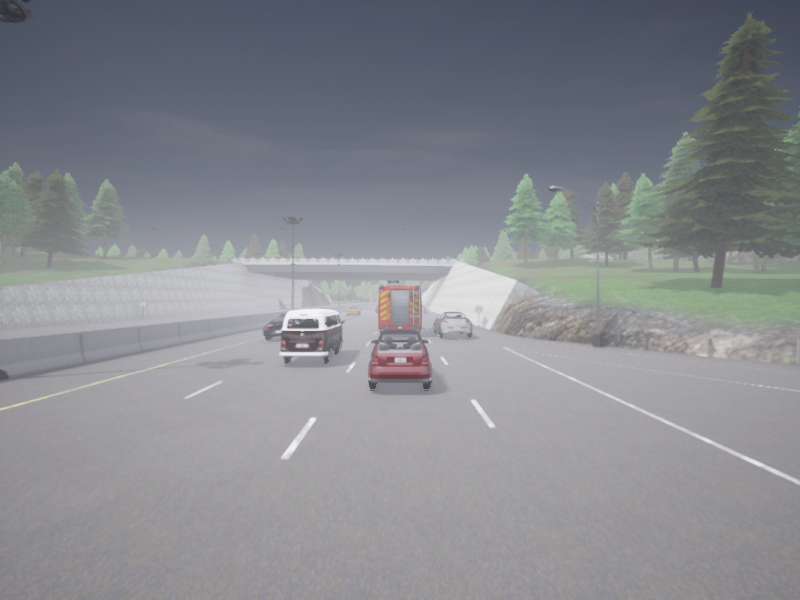vehicle: (368, 329, 431, 389), (280, 309, 344, 362), (378, 278, 421, 333), (434, 312, 471, 337), (263, 314, 286, 339), (347, 305, 360, 315), (422, 305, 425, 313), (376, 305, 378, 312)
